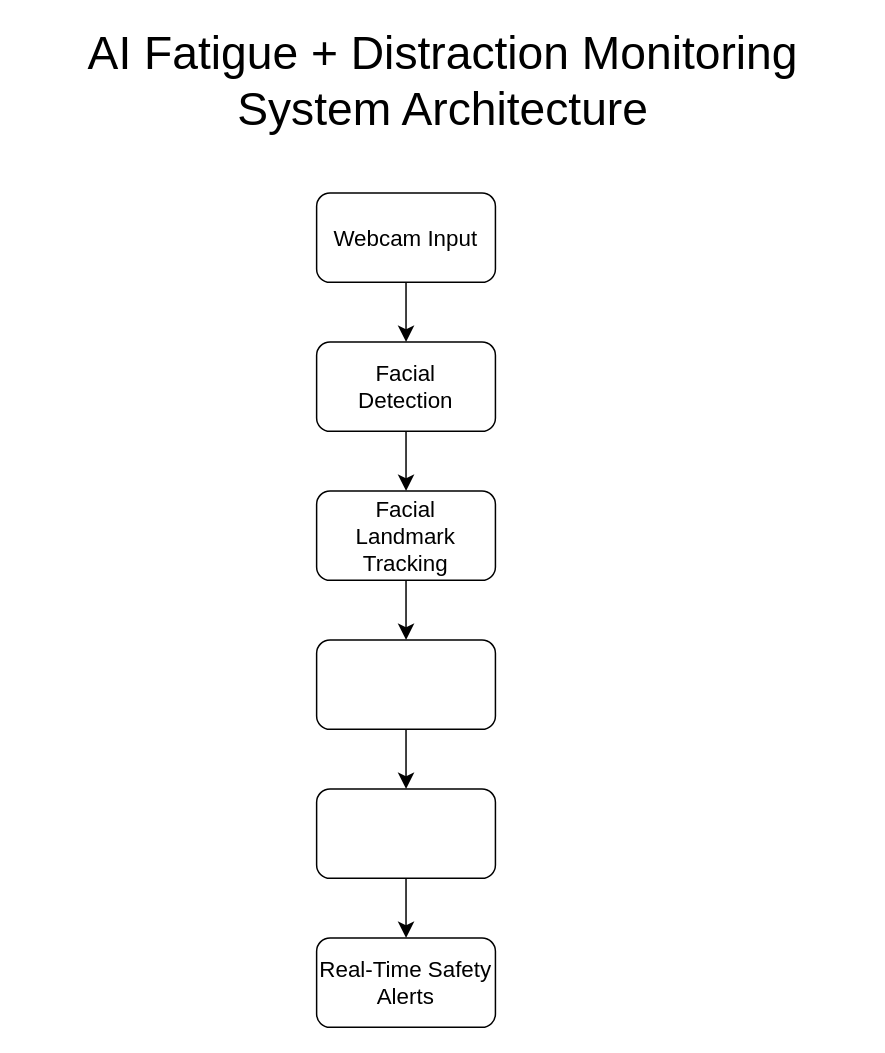
Image size: 885x1053. Some labels were removed from this diagram. The centre of each missing label's shape, as x and y in pixels:
"Eye & Head Pose Analysis" goes at (x=405, y=683).
"Fatigue / Distraction Detection" goes at (x=405, y=832).
